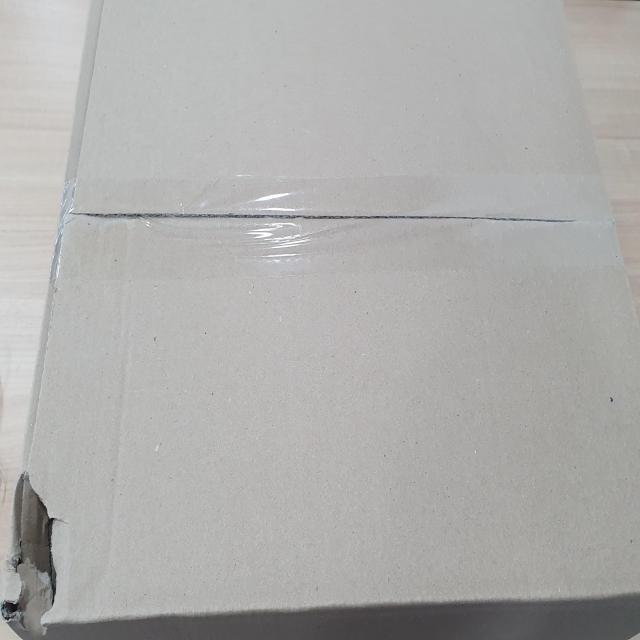damaged: (2, 468, 70, 630)
